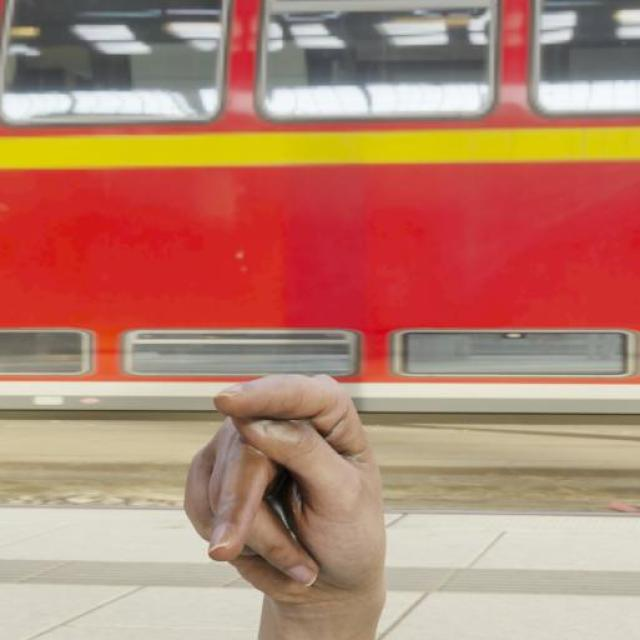P: (129, 335, 444, 640)
